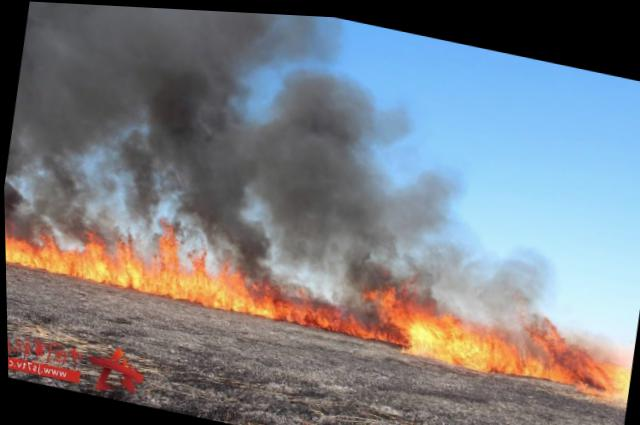fire: (3, 200, 634, 397)
